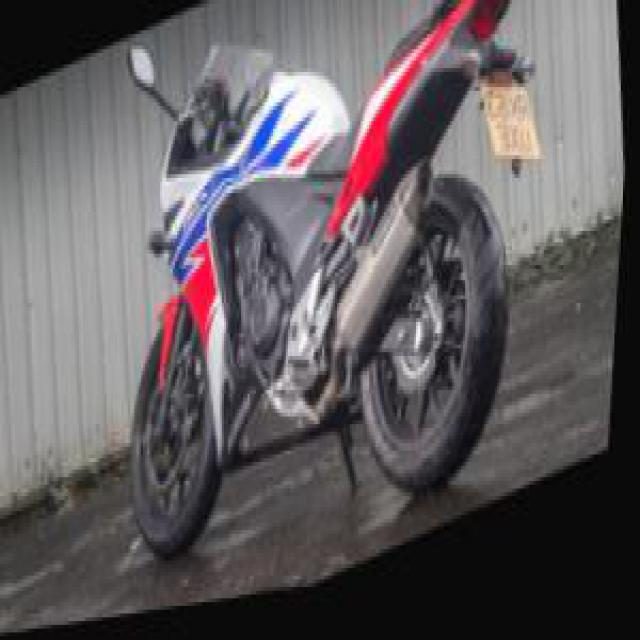CBR500R: (88, 0, 552, 621)
